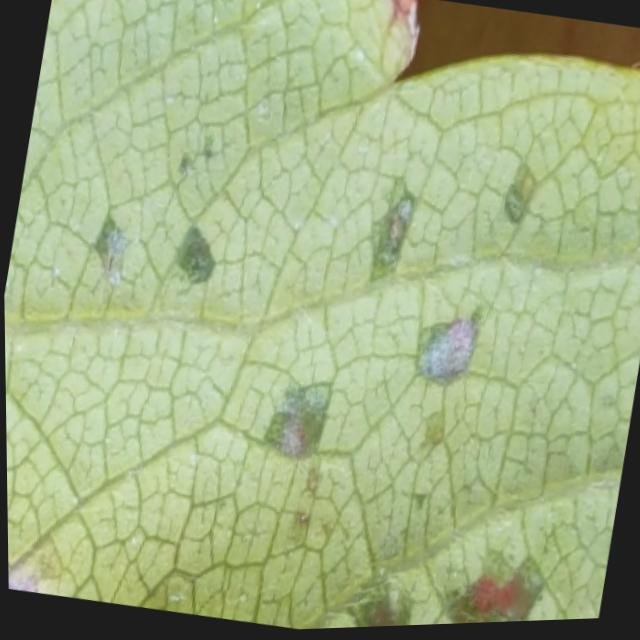Angular Leafspot: (6, 0, 640, 631)
